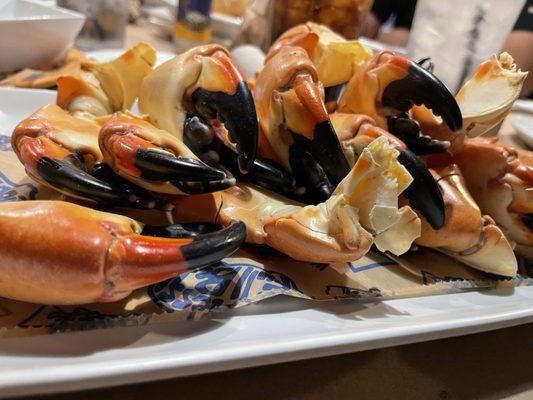sushi: (0, 10, 88, 77)
